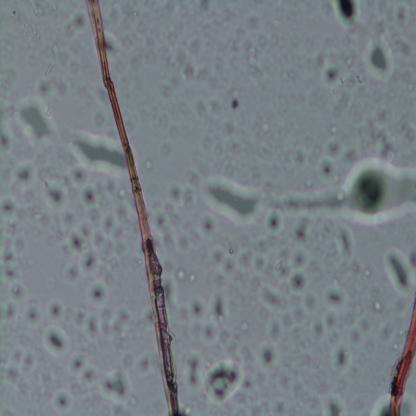Background material: (269, 155, 416, 233), (204, 174, 258, 231), (160, 183, 190, 265), (74, 131, 126, 177), (186, 296, 231, 345), (320, 135, 362, 182), (205, 360, 248, 405), (68, 220, 100, 278), (380, 245, 410, 296), (365, 36, 396, 82), (102, 206, 127, 258), (366, 122, 400, 160), (174, 48, 207, 84), (98, 370, 132, 403), (330, 0, 364, 32), (41, 323, 72, 358), (23, 105, 53, 141), (379, 0, 410, 32), (315, 388, 350, 416), (70, 353, 99, 385), (35, 71, 69, 98), (84, 312, 114, 342), (260, 282, 287, 314), (34, 165, 70, 189), (244, 240, 268, 274), (10, 160, 36, 190), (184, 350, 204, 388), (115, 310, 133, 352), (257, 340, 279, 374), (193, 92, 223, 116), (251, 396, 286, 416), (323, 282, 346, 312), (350, 315, 372, 344), (219, 328, 240, 358), (336, 228, 354, 262), (134, 348, 154, 378), (1, 252, 20, 283), (195, 212, 215, 240), (87, 278, 107, 306), (13, 346, 36, 370), (319, 66, 344, 88), (52, 388, 74, 413), (330, 344, 349, 372), (64, 14, 86, 38), (214, 251, 235, 276), (274, 251, 292, 280), (266, 209, 284, 236), (44, 186, 67, 207), (234, 16, 259, 35), (28, 0, 58, 15), (25, 304, 45, 326), (45, 302, 66, 322), (393, 34, 412, 56), (288, 269, 305, 293), (66, 261, 82, 286), (176, 267, 198, 285), (71, 165, 89, 186), (159, 112, 176, 134), (222, 114, 239, 136), (303, 291, 319, 314), (105, 34, 120, 58), (21, 22, 40, 40), (374, 396, 391, 416), (268, 318, 282, 342), (10, 282, 26, 302), (71, 308, 86, 329), (51, 44, 67, 63), (226, 89, 240, 110), (0, 197, 16, 214), (12, 238, 27, 255), (290, 250, 304, 268), (31, 211, 47, 226), (63, 209, 76, 227), (84, 188, 97, 206), (325, 311, 337, 330), (192, 0, 212, 11), (0, 131, 10, 152), (315, 322, 326, 340), (11, 6, 21, 25), (143, 159, 156, 173), (295, 229, 307, 244), (294, 307, 304, 325), (96, 110, 107, 126), (5, 305, 15, 322), (247, 47, 255, 68), (327, 331, 338, 345), (326, 121, 336, 136), (116, 188, 128, 200), (124, 353, 134, 367), (374, 298, 382, 314), (354, 73, 364, 85), (362, 266, 370, 280), (351, 260, 360, 272), (47, 62, 54, 76), (241, 319, 248, 332), (345, 57, 354, 67), (392, 342, 402, 350), (138, 262, 144, 267)
Cotton: (86, 1, 183, 415), (387, 286, 416, 416)
